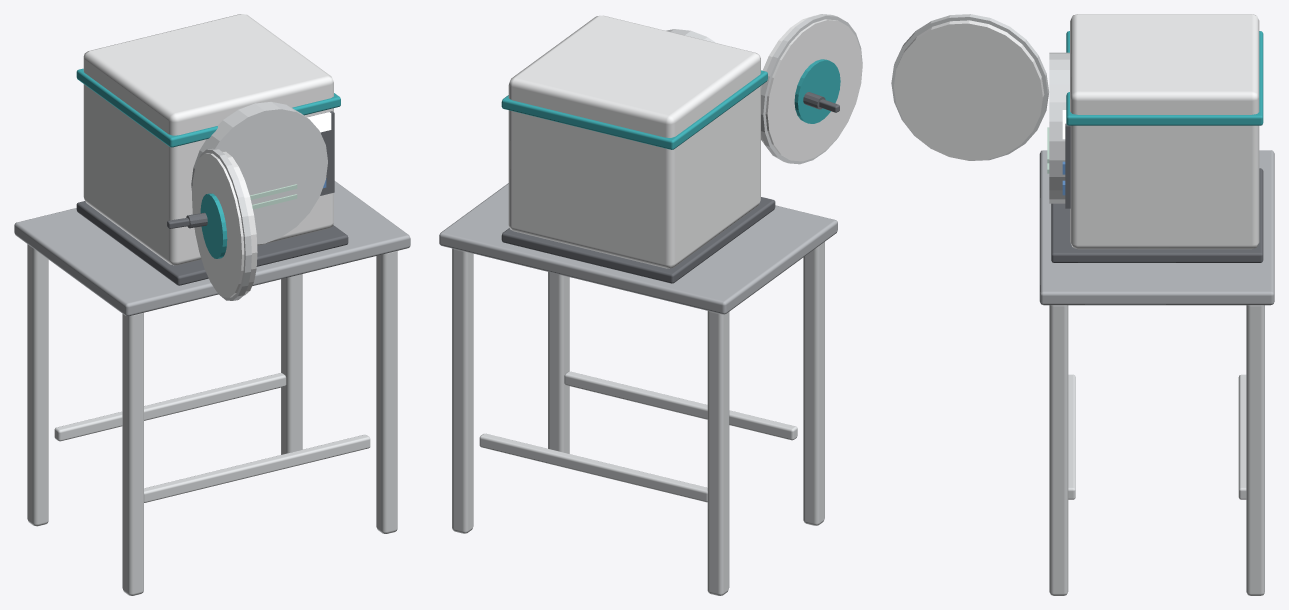
The model's file is autoclave-bench-open.glb.
The picture shows the model from 3 angles, left to right: view 1: azimuth 30°, elevation 25°; view 2: azimuth 150°, elevation 25°; view 3: azimuth 270°, elevation 25°; orthographic projection. The views are drawn at different scales.
Visible parts, largest first — view 1: autoclave-bench-open, door-a (×3); view 2: autoclave-bench-open, door-a (×3); view 3: autoclave-bench-open, door-a (×2).
Boxes of the visible parts, x1,y1,x2,y2 form: autoclave-bench-open: (14,14,410,595); door-a (×3): (192,148,257,300); autoclave-bench-open: (439,15,837,595); door-a (×3): (761,14,862,164); autoclave-bench-open: (1039,14,1274,595); door-a (×2): (891,14,1048,160).
Bounding box in the file's own units: 0.9 × 1.39 × 1.01.
